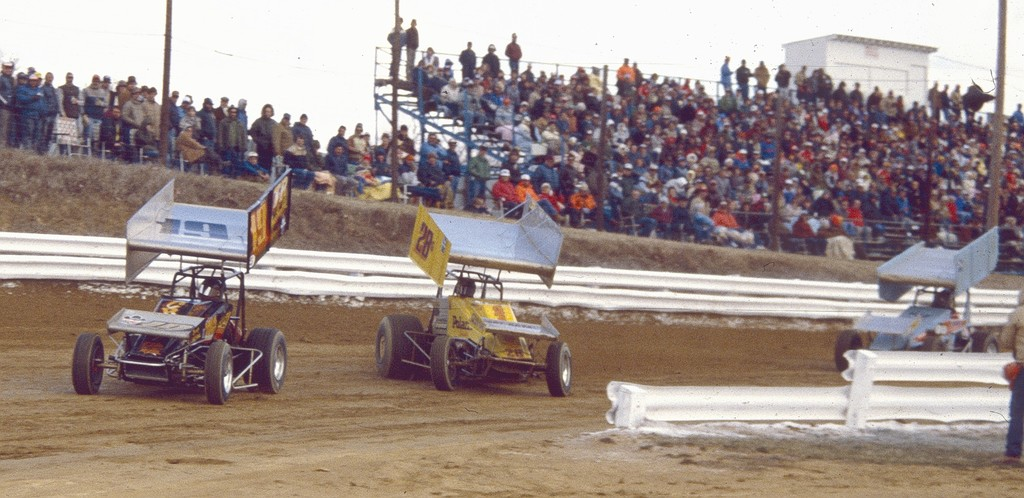Car: (373, 189, 572, 396), (71, 244, 295, 399), (832, 225, 999, 370)
